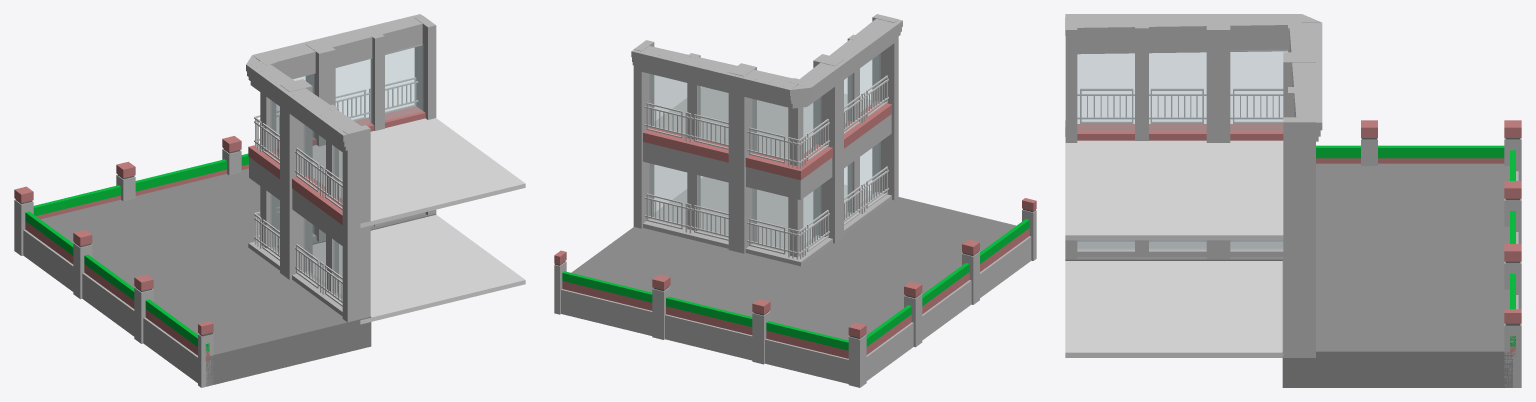
File: Corner_Ground_Recessed.fbx
The picture shows the model from 3 angles, left to right: view 1: azimuth 30°, elevation 25°; view 2: azimuth 150°, elevation 25°; view 3: azimuth 270°, elevation 25°; orthographic projection. The views are drawn at different scales.
Visible parts, largest first — view 1: Walls, Floor__Outside, Floor_Inside, GlassWindows, Wall_Accents, Railings, Hedges; view 2: Walls, Floor__Outside, GlassWindows, Wall_Accents, Railings, Floor_Inside, Hedges; view 3: Floor__Outside, Floor_Inside, Walls, GlassWindows, Wall_Accents, Railings, Hedges.
Part boxes in pixels (x1,y1,x2,y2): Walls: (14, 14, 436, 387); Floor__Outside: (40, 168, 436, 386); Floor_Inside: (312, 118, 525, 324); GlassWindows: (271, 44, 422, 298); Wall_Accents: (14, 106, 425, 361); Railings: (254, 77, 418, 306); Hedges: (25, 153, 248, 352); Walls: (554, 14, 1036, 387); Floor__Outside: (571, 197, 1015, 340); GlassWindows: (650, 54, 880, 251); Wall_Accents: (554, 101, 1036, 358); Railings: (644, 75, 888, 259); Floor_Inside: (654, 86, 871, 249); Hedges: (562, 219, 1029, 350); Floor__Outside: (1065, 163, 1512, 387); Floor_Inside: (1065, 137, 1283, 357); Walls: (1065, 14, 1521, 387); GlassWindows: (1077, 50, 1287, 248); Wall_Accents: (1065, 120, 1521, 356); Railings: (1077, 88, 1283, 241); Hedges: (1316, 145, 1515, 346).
Size of the model in its own units: 39.76 by 25.55 by 39.75.
